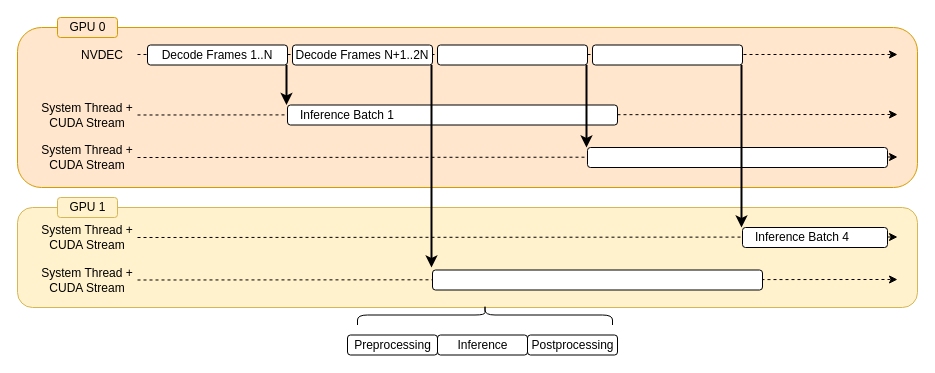
Some shapes in this 935 by 373 pixel diagram are drawn without their labels. Here are the shapes that lost their labels. From the top down, the centre of each, then its label:
At [512,54]: "Decode Frames 2N+1..3N".
At [667,54]: "Decode Frames 3N+1..4N".
At [737,157]: "Inference Batch 3".
At [597,279]: "Inference Batch 2".
